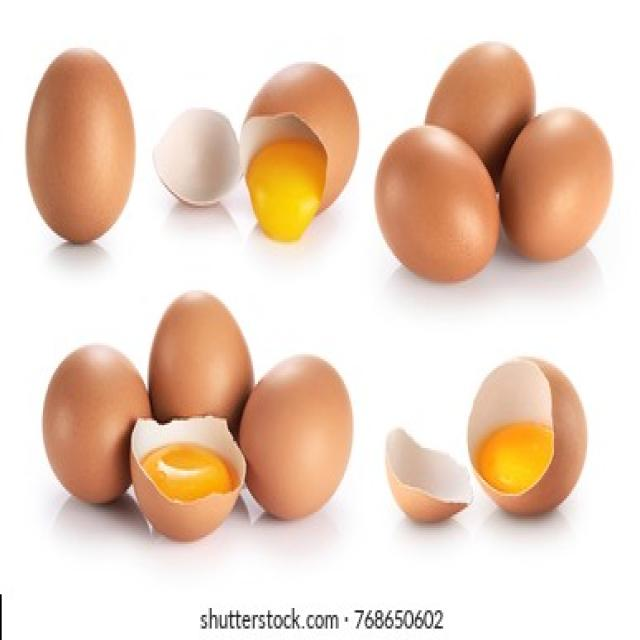Brown Egg: (20, 43, 140, 247), (237, 346, 356, 528), (372, 120, 503, 283), (32, 340, 142, 513), (504, 111, 618, 277), (426, 32, 534, 180), (140, 290, 256, 422)
